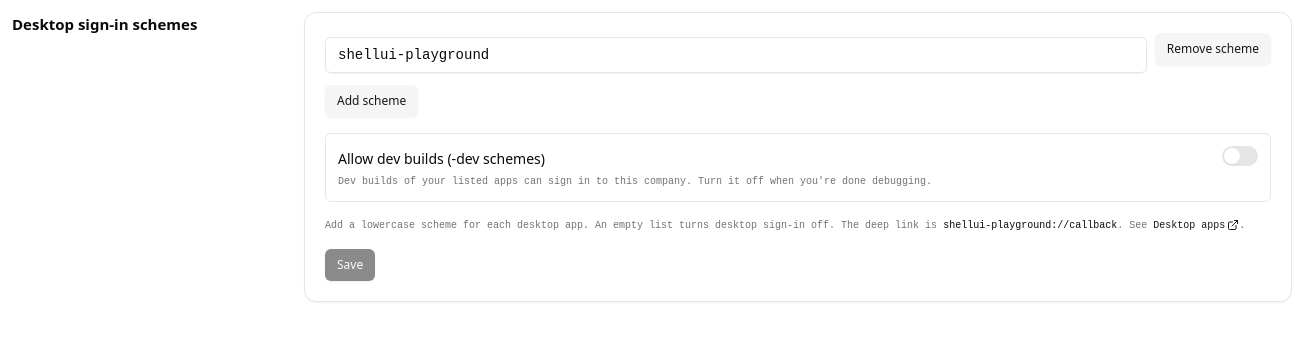
Test: CompanyDesktopSchemesSection › saves the dev-scheme flag with the scheme list
Expected: the text "Dev builds of your listed apps can sign in" is shown, x1=338 y1=176 x2=932 y2=187
Click the switch named "allow dev builds": (1240, 156) x1=1222 y1=146 x2=1258 y2=166
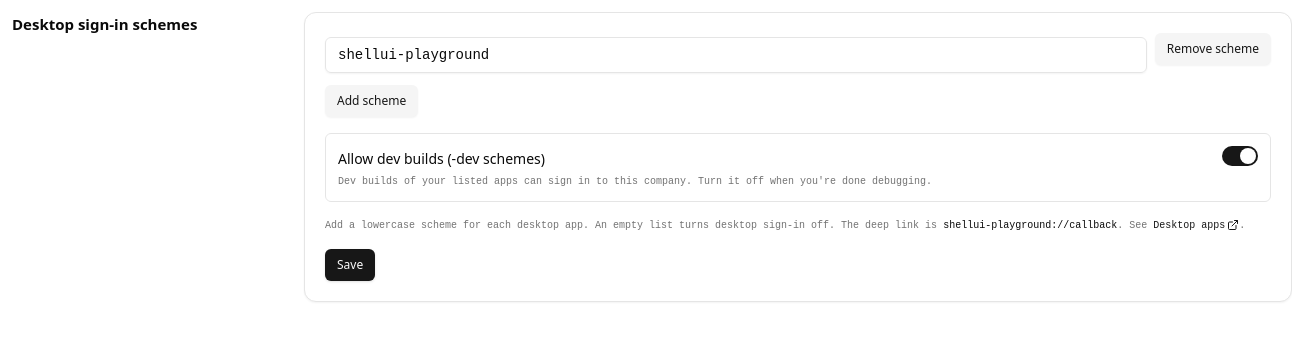
Now the switch named "allow dev builds" is checked, box x1=1222 y1=146 x2=1258 y2=166
Click the button "Save": (350, 265) x1=325 y1=249 x2=375 y2=281
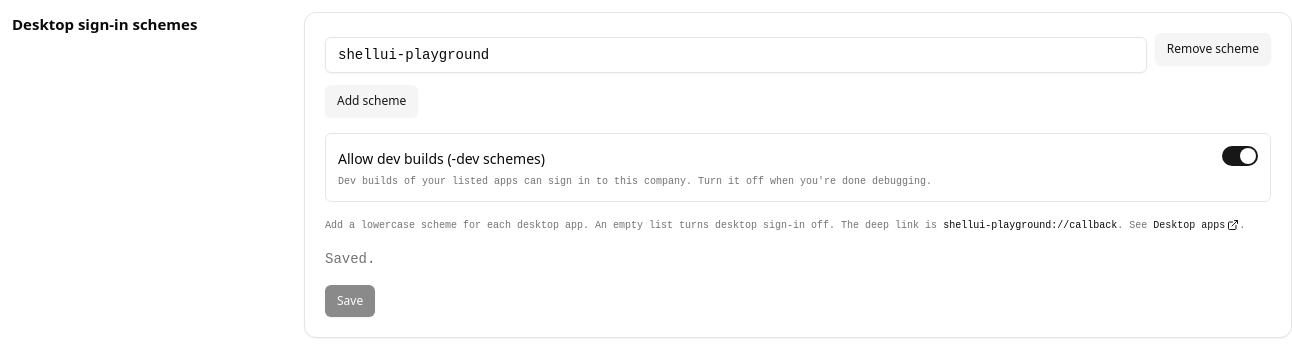
Now the text "Saved." is shown, box x1=325 y1=251 x2=375 y2=267
